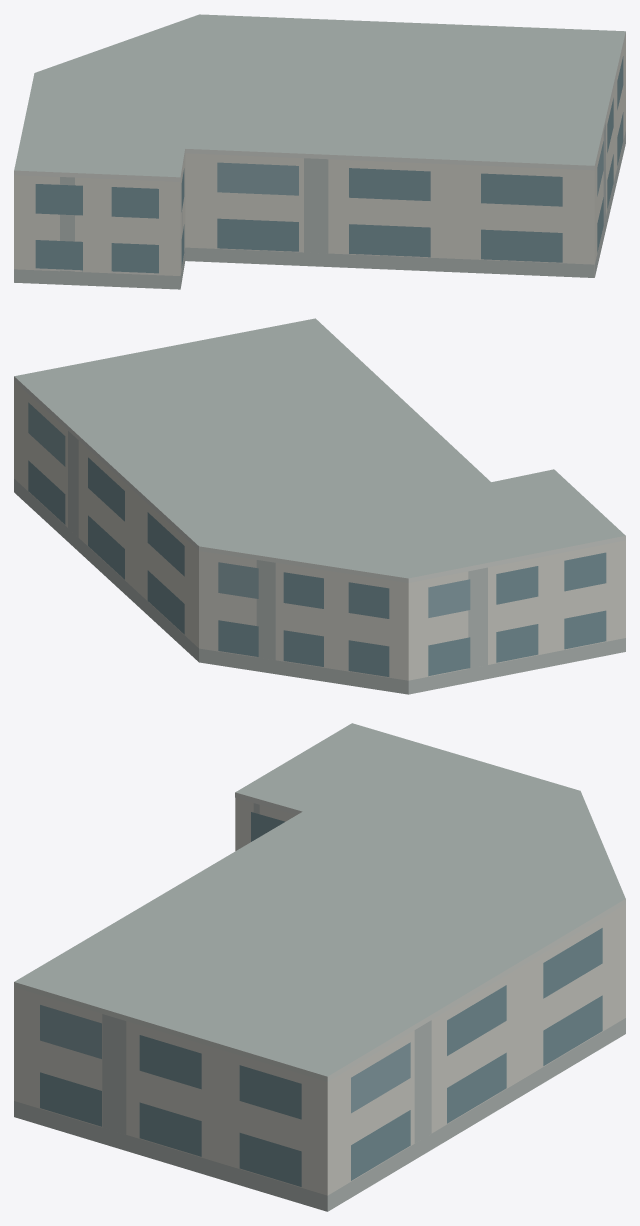
Rendered from survey-upis-32854175.glb.
3 views of the same model, one above another, from view 1: azimuth 30°, elevation 25°; view 2: azimuth 150°, elevation 25°; view 3: azimuth 270°, elevation 25° (orthographic). The views are drawn at different scales.
Parts seen in each view (by area): view 1: survey-upis-32854175.tmp; view 2: survey-upis-32854175.tmp; view 3: survey-upis-32854175.tmp.
Boxes of the visible parts, x1,y1,x2,y2 form: survey-upis-32854175.tmp: (14, 14, 625, 289); survey-upis-32854175.tmp: (14, 318, 625, 694); survey-upis-32854175.tmp: (14, 723, 625, 1211).
Size of the model in its own units: 34.24 by 6.1 by 25.04.
